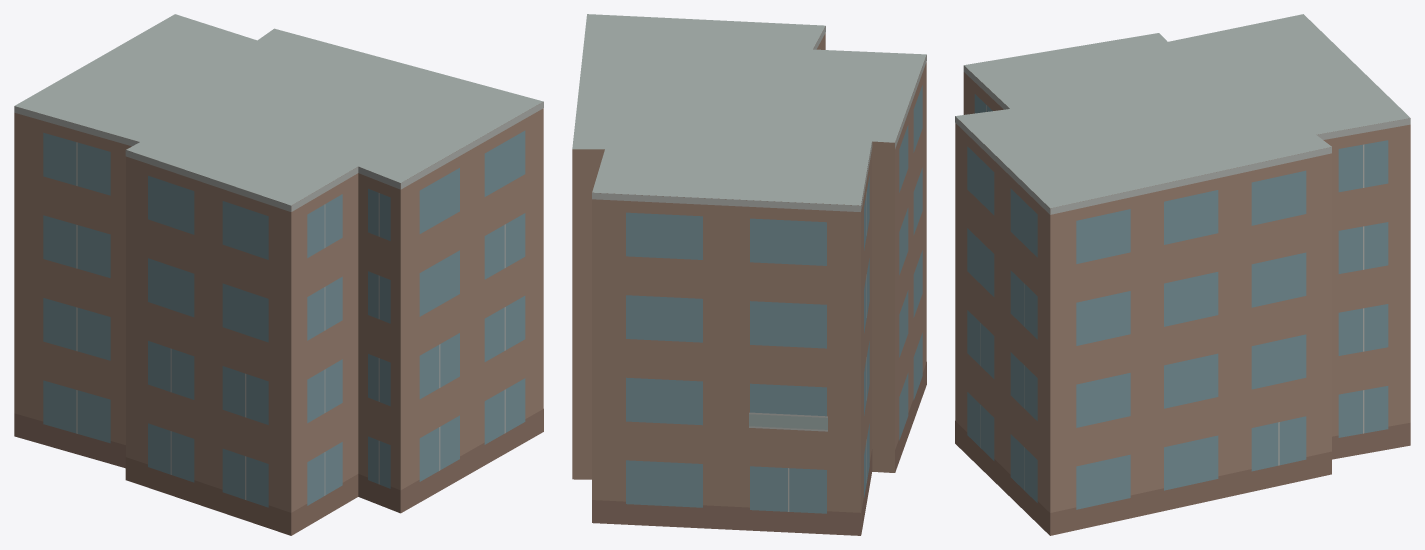
Rendered from survey-upis-32670917.glb.
The picture shows the model from 3 angles, left to right: view 1: azimuth 30°, elevation 25°; view 2: azimuth 150°, elevation 25°; view 3: azimuth 270°, elevation 25°; orthographic projection.
Parts seen in each view (by area): view 1: survey-upis-32670917.tmp; view 2: survey-upis-32670917.tmp; view 3: survey-upis-32670917.tmp.
Boxes of the visible parts, box(x1,y1,x2,y2) form: survey-upis-32670917.tmp: box(14, 14, 543, 535); survey-upis-32670917.tmp: box(572, 14, 926, 535); survey-upis-32670917.tmp: box(955, 14, 1410, 535).
Size of the model in its own units: 15.54 by 12.2 by 15.39.
